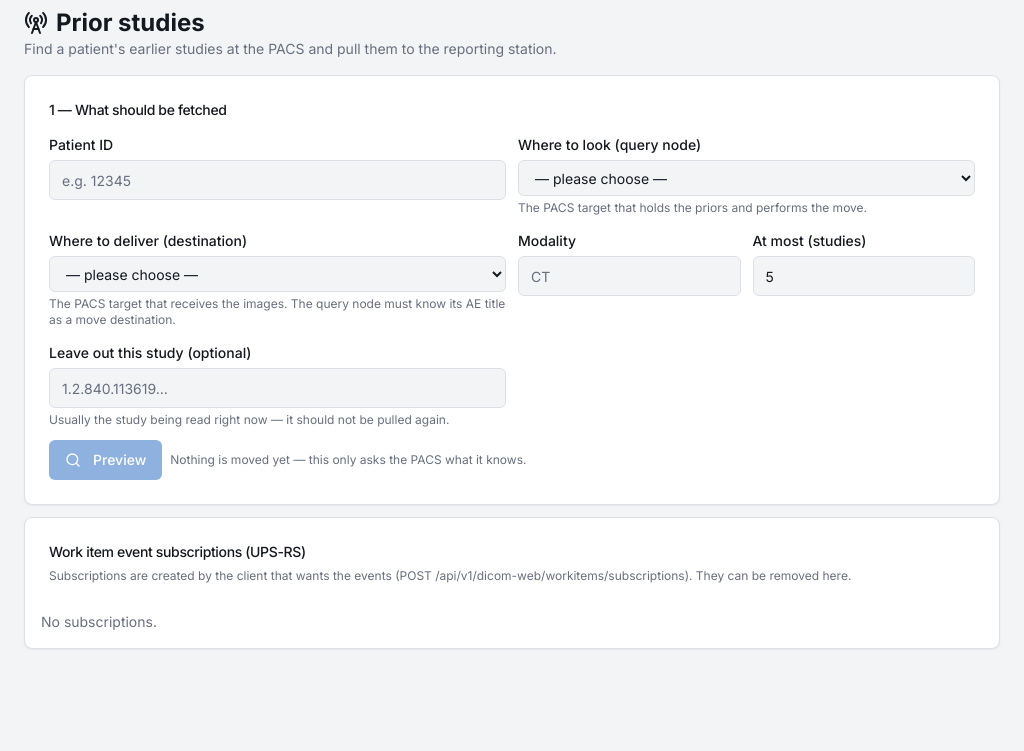
Test: PrefetchPage › applies the prefetch with dry_run=false and reports the outcome
Type "P-100" into the field labelled "Patient ID" at (278, 180), box [49,160,506,200]
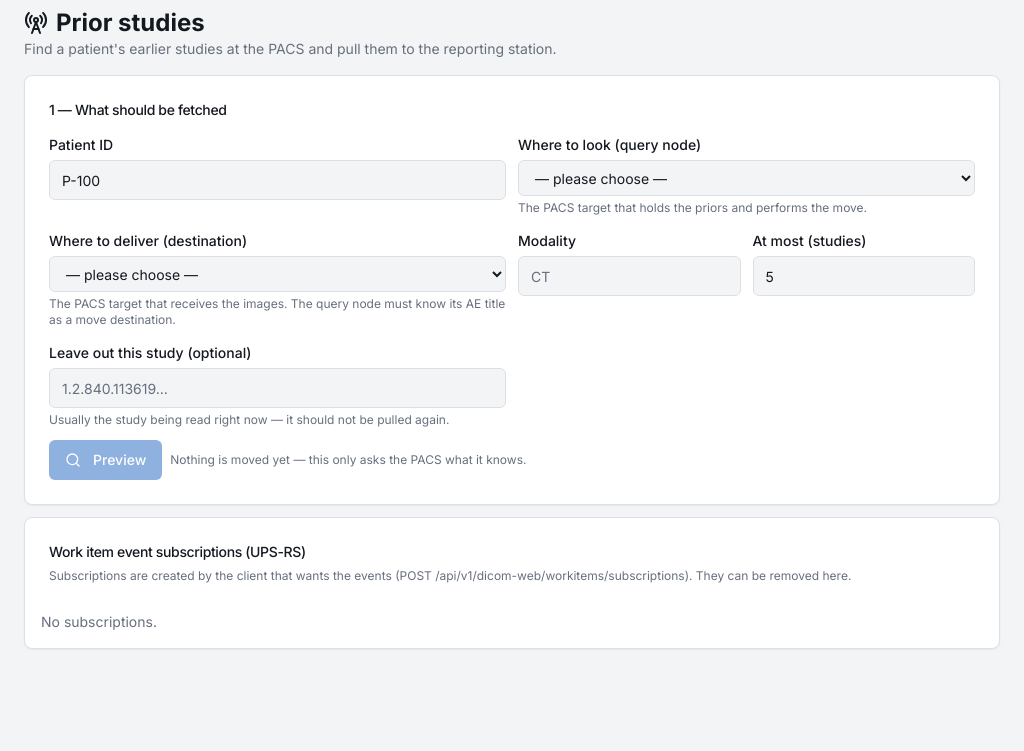
Select "pacs-main" in the dropdown labelled "Where to look (query node)" at (746, 178), box [518,160,975,196]
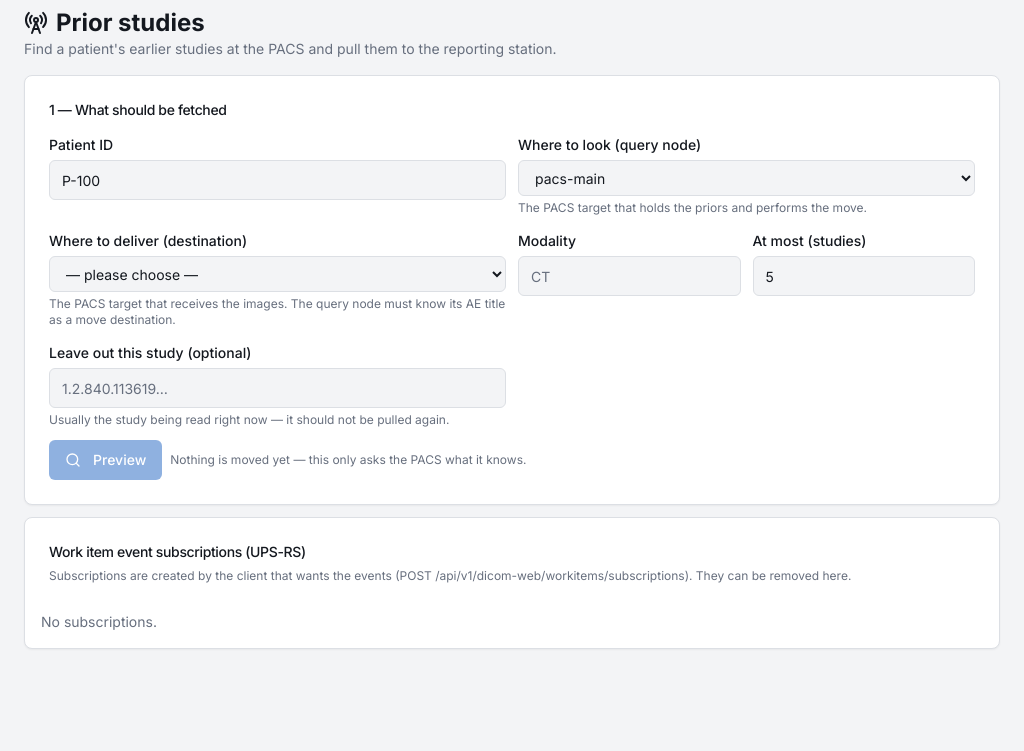
Select "dest" in the dropdown labelled "Where to deliver (destination)" at (278, 274), box [49,256,506,292]
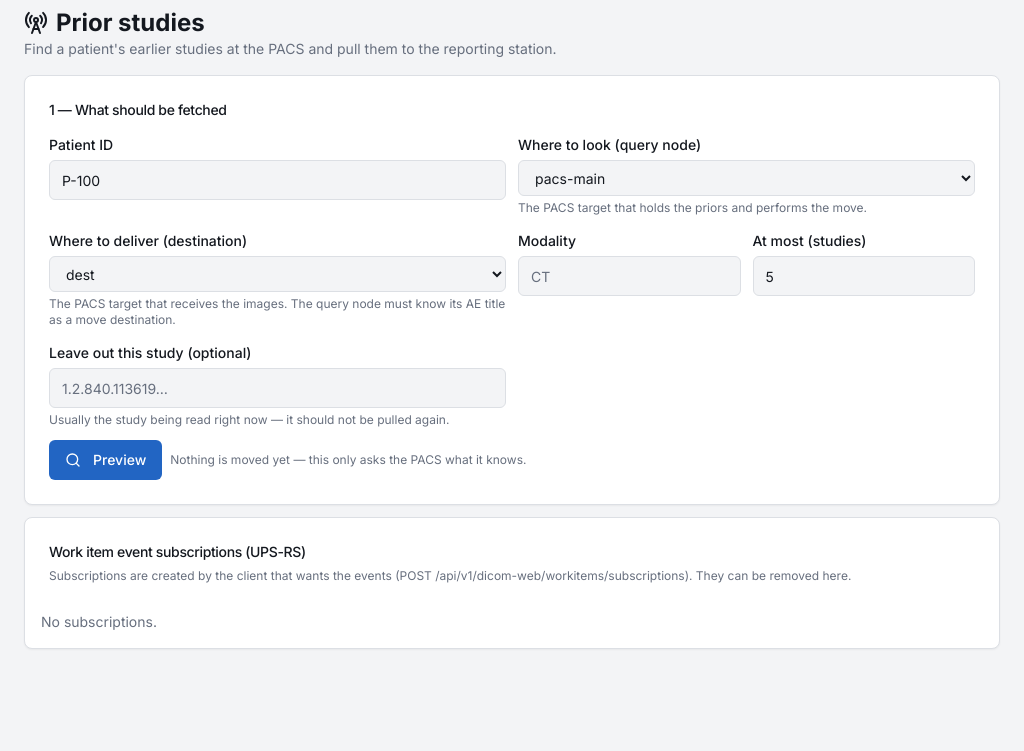
Click the button "Preview" at (106, 460), box [49,440,162,480]
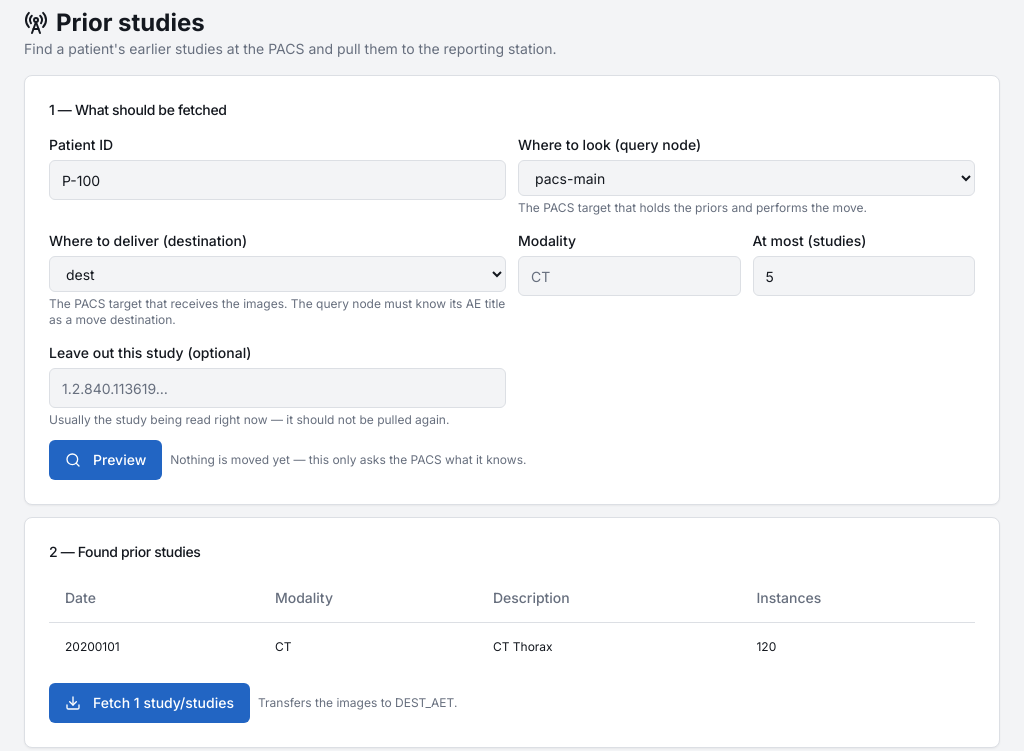
expect the text "CT Thorax" is shown: met, box [477,622,740,670]
Click the button "Fetch 1 study/studies" at (150, 702), box [49,682,250,722]
(page scrolled)
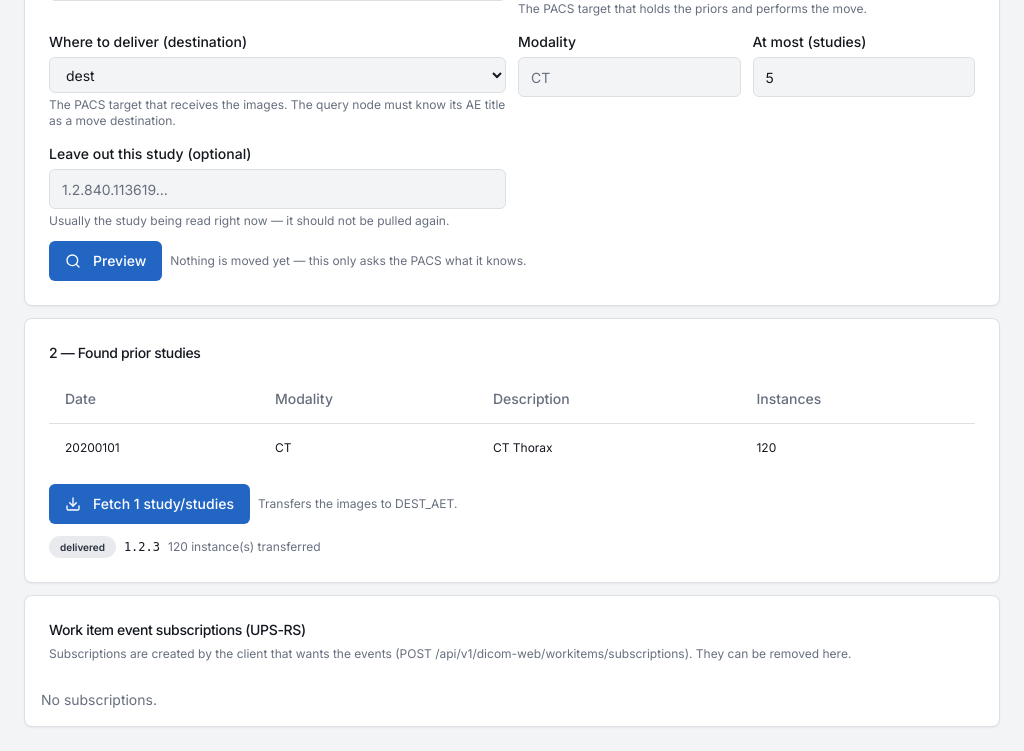
expect the element with test id "prefetch-result" is shown: met, box [49,536,321,558]
